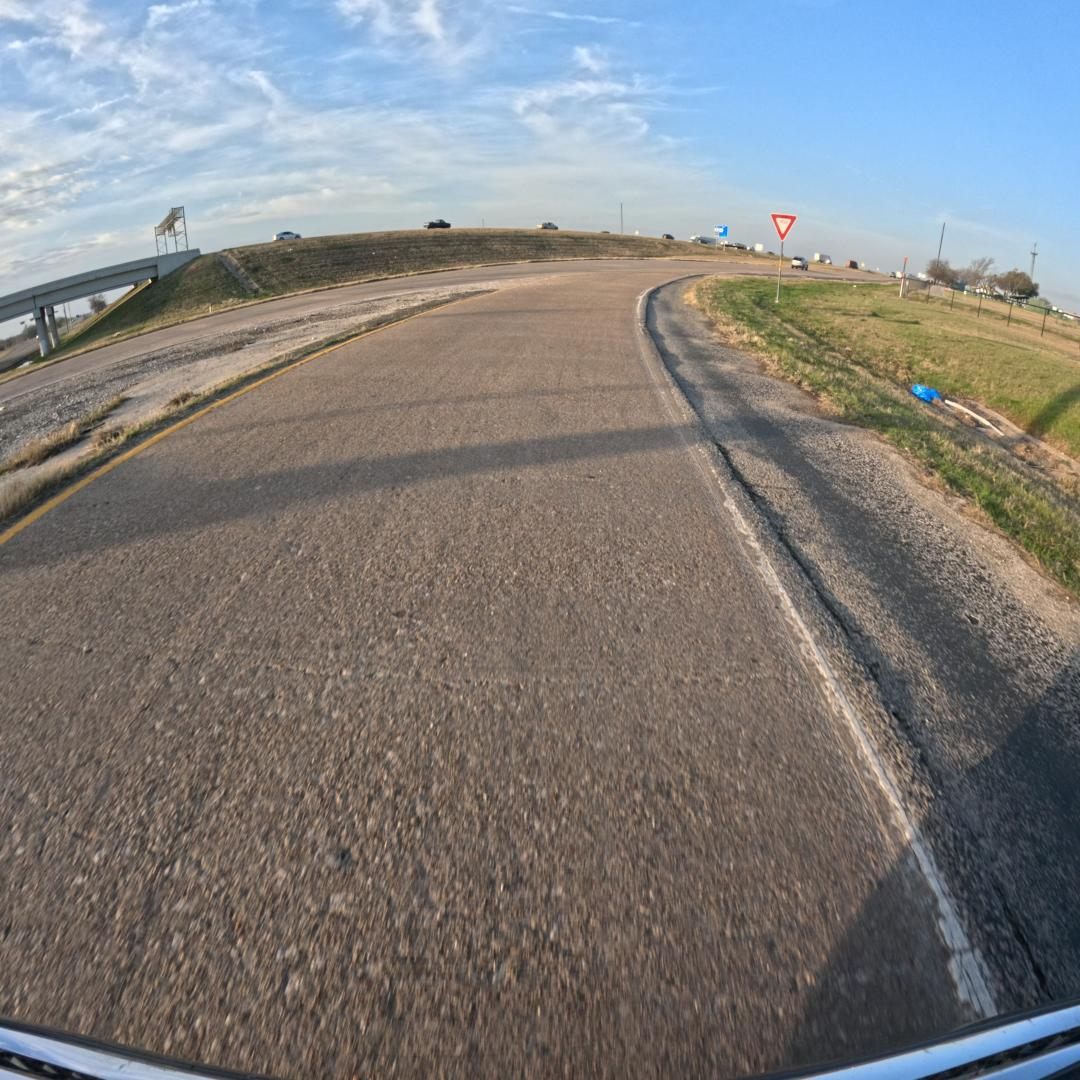lane0: (0, 267, 994, 1077)
